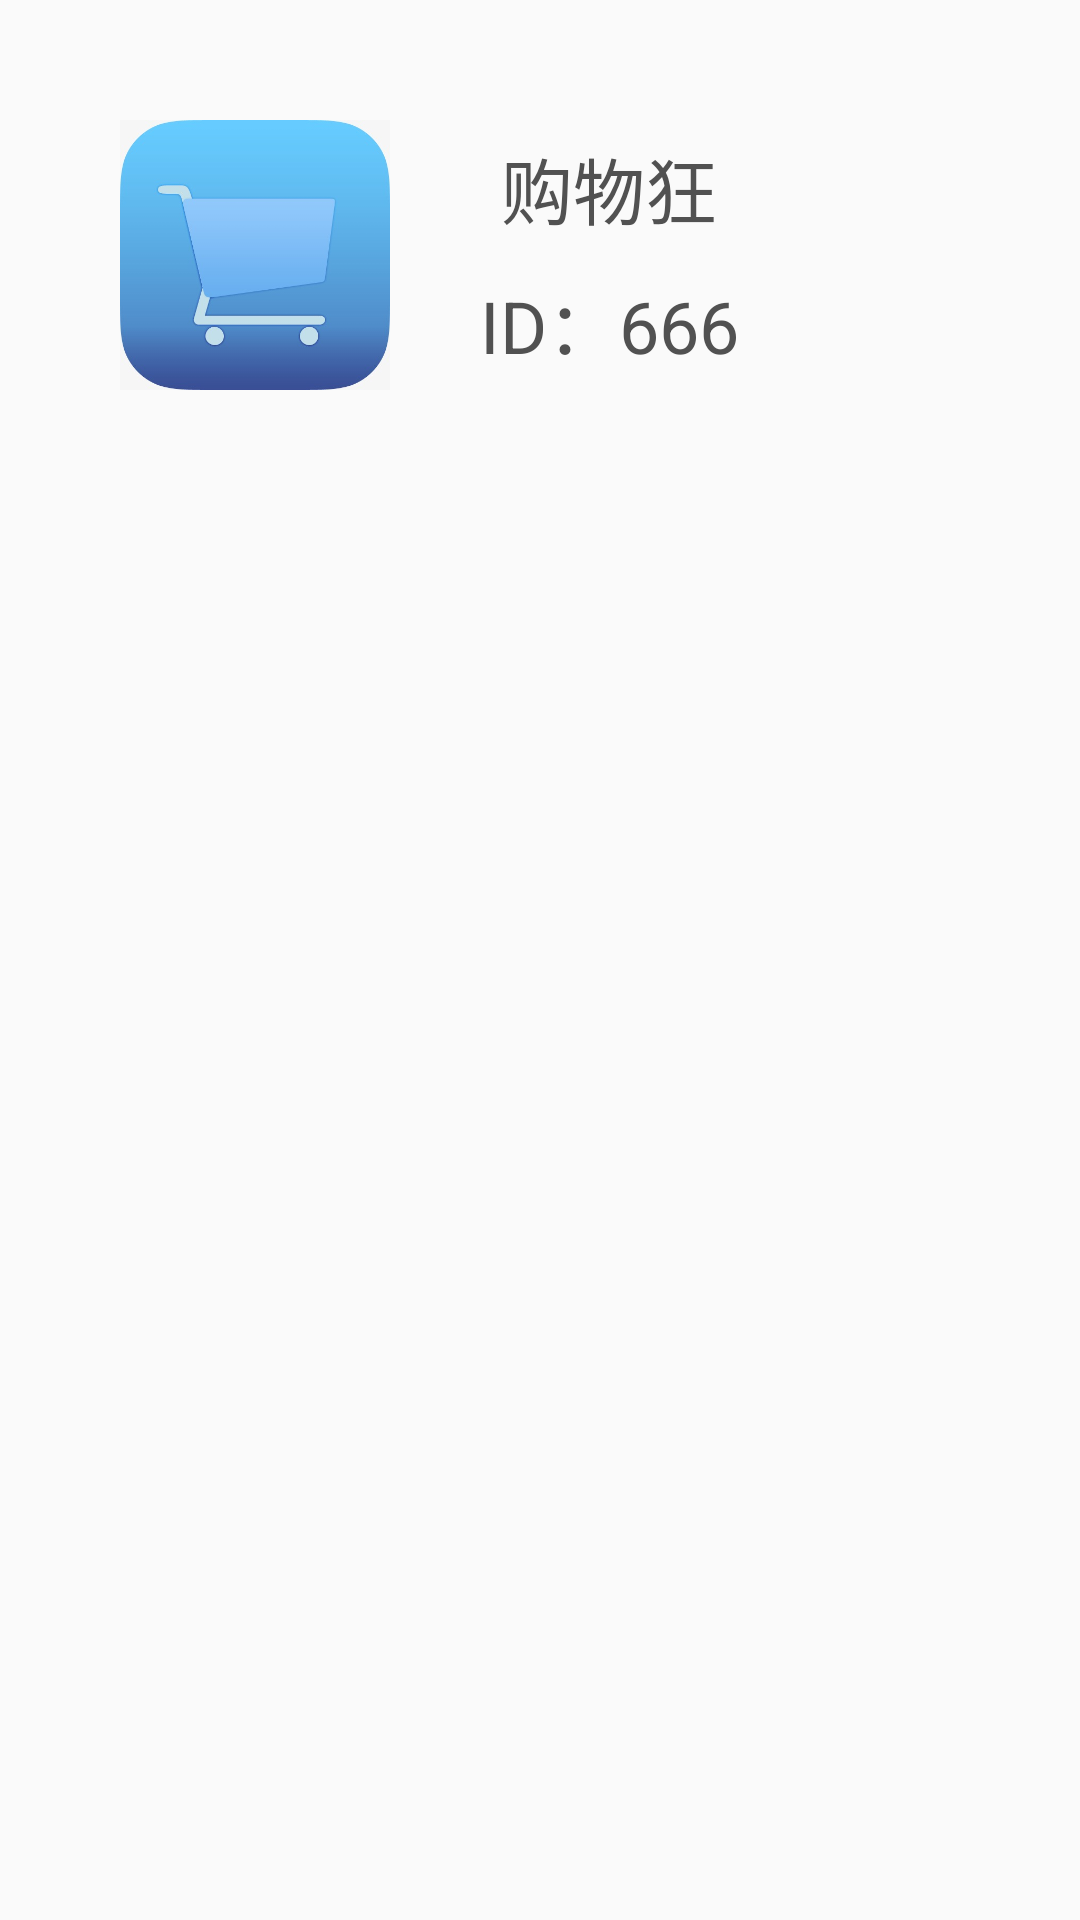

Icon click points for this 1080*1920 phone screenshot, format point (x, y):
app: point (255, 255)
